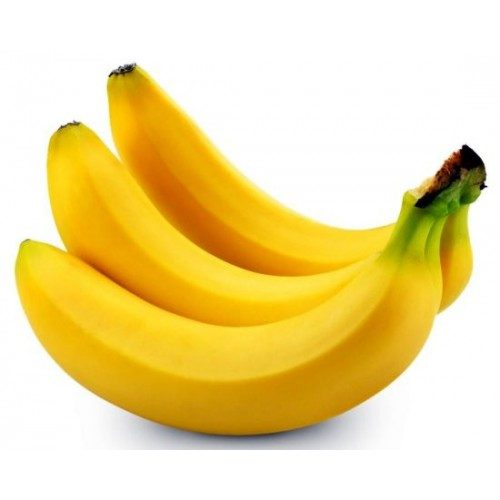banana: (24, 76, 484, 436)
